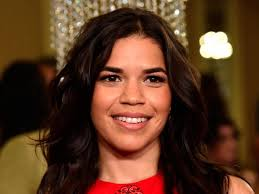middle_eastern_Female: (87, 27, 175, 155)
